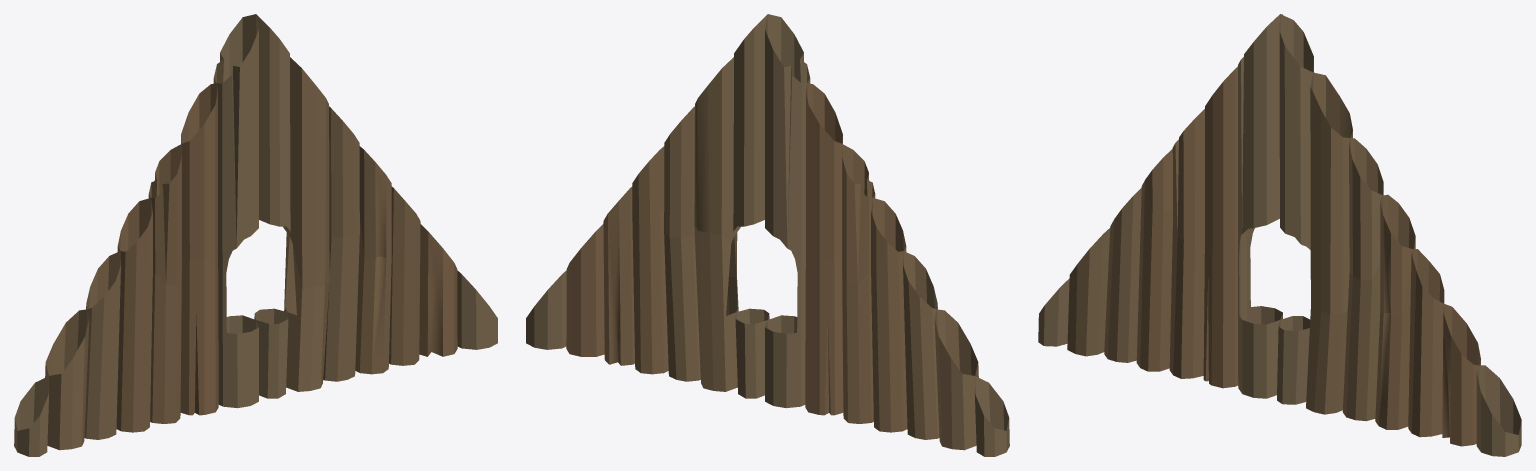
The model's file is rpgpp_ag_roof_end_01_6x5_wall_window_02c.fbx.
3 views of the same model, side by side, from view 1: azimuth 30°, elevation 25°; view 2: azimuth 150°, elevation 25°; view 3: azimuth 330°, elevation 25° (orthographic).
Parts seen in each view (by area): view 1: rpgpp_ag_roof_end_01_6x5_wall_window_02c; view 2: rpgpp_ag_roof_end_01_6x5_wall_window_02c; view 3: rpgpp_ag_roof_end_01_6x5_wall_window_02c.
Boxes of the visible parts, x1,y1,x2,y2 form: rpgpp_ag_roof_end_01_6x5_wall_window_02c: (14,14,497,456); rpgpp_ag_roof_end_01_6x5_wall_window_02c: (526,14,1009,456); rpgpp_ag_roof_end_01_6x5_wall_window_02c: (1038,14,1521,456).
Size of the model in its own units: 6 by 4.57 by 0.4626.
